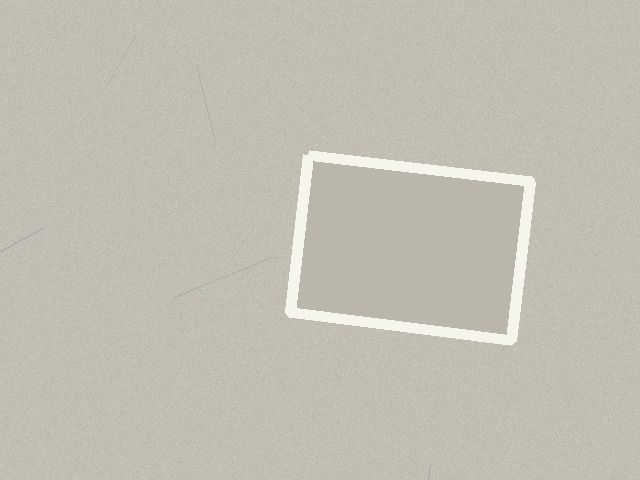parking_area: (290, 155, 530, 340)
